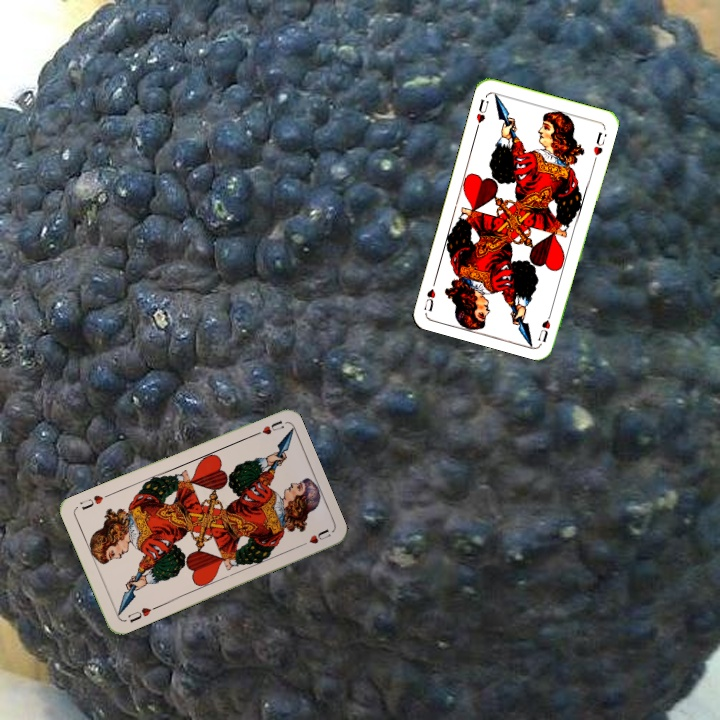HU: (247, 416, 286, 440), (534, 305, 555, 345), (124, 602, 159, 625), (472, 95, 491, 132)
